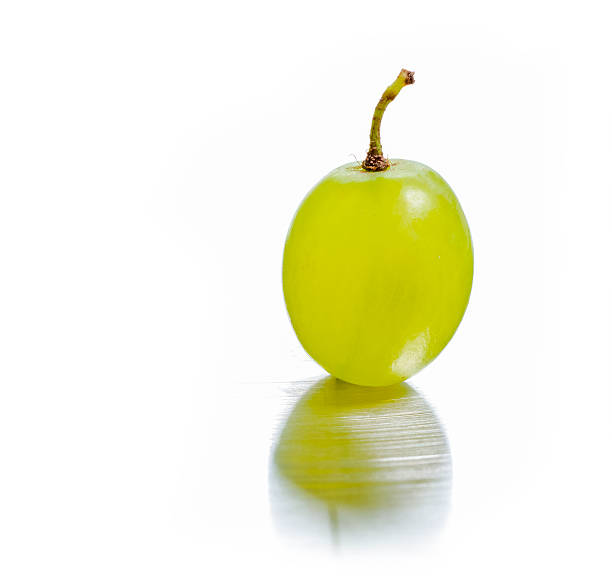grapes: (274, 55, 548, 408)
